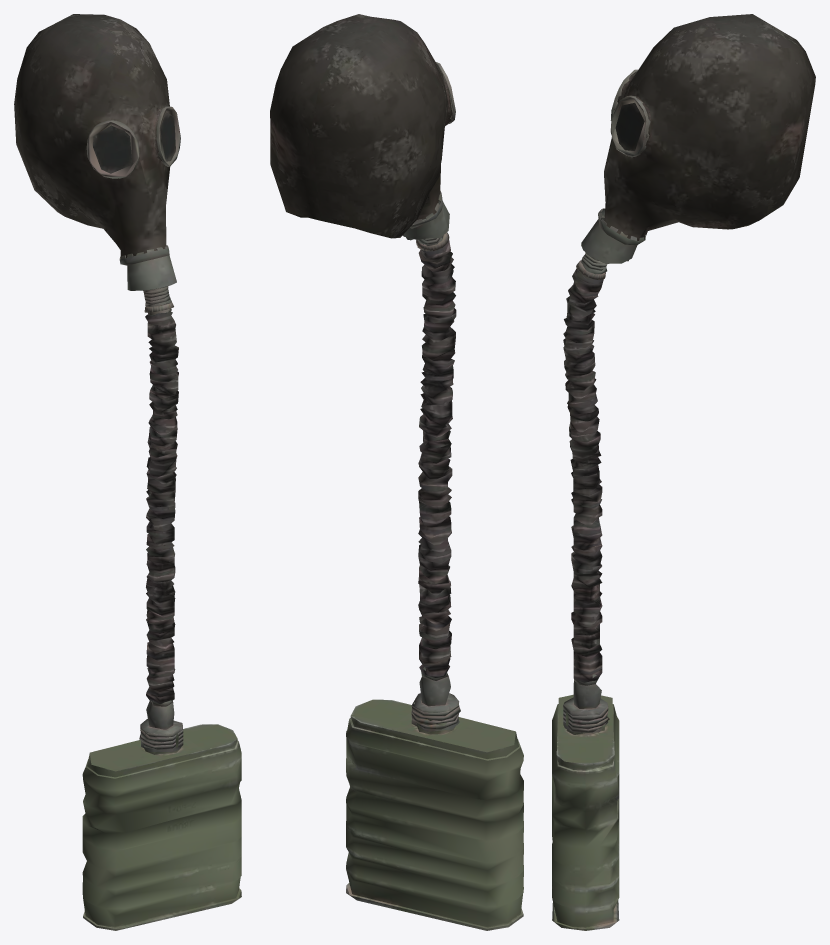
File: old_gas_mask.glb
3 views of the same model, side by side, from view 1: azimuth 30°, elevation 25°; view 2: azimuth 150°, elevation 25°; view 3: azimuth 270°, elevation 25° (orthographic). The views are drawn at different scales.
Visible parts, largest first — view 1: old_gas_mask; view 2: old_gas_mask; view 3: old_gas_mask.
Boxes of the visible parts, box(x1,y1,x2,y2) form: old_gas_mask: box(14, 14, 241, 930); old_gas_mask: box(270, 14, 523, 930); old_gas_mask: box(552, 14, 815, 930).
Bounding box in the file's own units: 0.2105 × 1.12 × 0.3087.
Materials: 1 (1 with a texture image).
